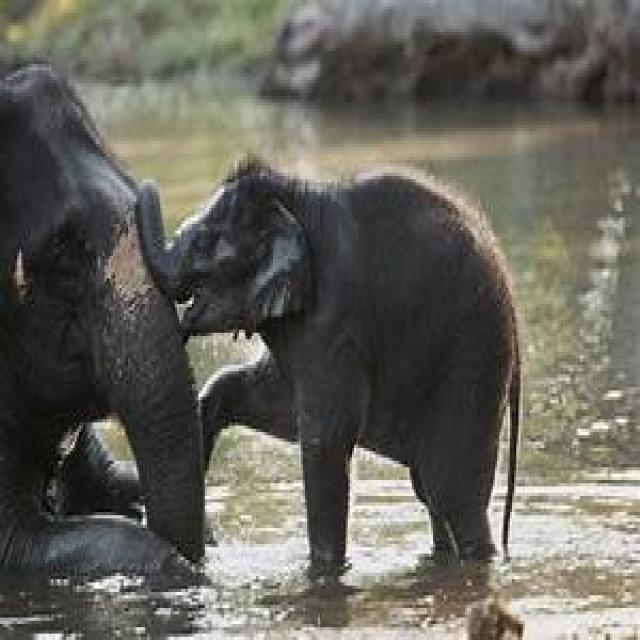elephant: (158, 160, 525, 592), (0, 61, 205, 579)
